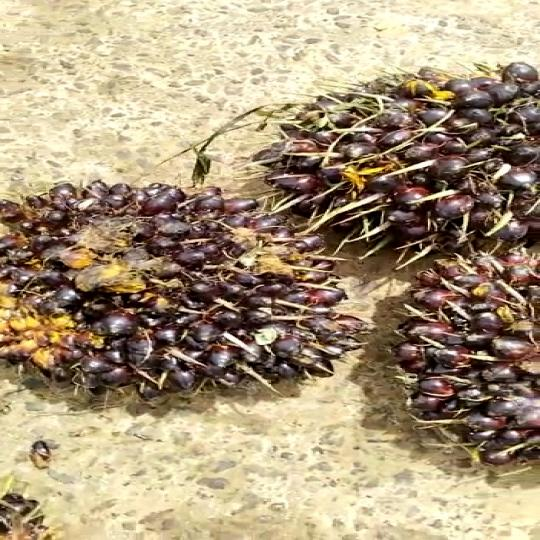kurang masak: (0, 158, 369, 421), (249, 59, 540, 252), (368, 241, 540, 460)
